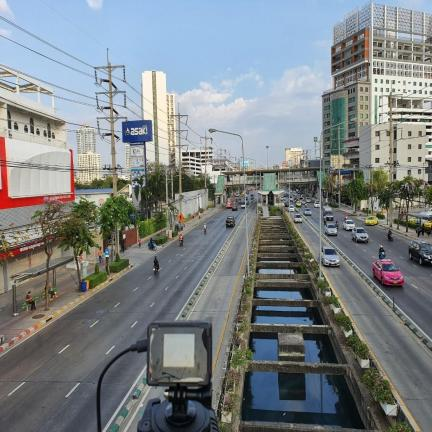bus: (226, 198, 233, 208)
car: (409, 240, 432, 265), (321, 246, 339, 265), (352, 227, 368, 242), (325, 223, 337, 234), (343, 220, 355, 230), (303, 207, 312, 215), (294, 214, 302, 222), (314, 201, 320, 207)
human: (26, 292, 35, 310), (378, 245, 385, 258), (154, 256, 159, 270), (98, 247, 102, 263), (416, 225, 421, 237), (122, 239, 125, 252), (102, 252, 105, 264), (179, 234, 183, 243), (138, 236, 141, 248), (421, 224, 424, 236), (204, 222, 207, 231)
motorbike: (148, 241, 156, 250), (153, 265, 159, 274), (387, 232, 393, 241), (379, 251, 385, 259), (335, 220, 339, 230), (179, 239, 183, 246), (344, 215, 347, 220), (204, 227, 206, 233)
pickup: (225, 216, 235, 227)
taxi: (373, 259, 403, 285), (365, 216, 378, 225), (295, 201, 301, 207)
truck: (323, 206, 333, 220)
